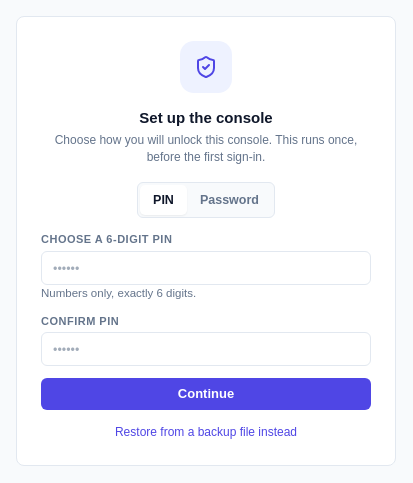
Test: Setup — the full first-run flow › submits a validated password credential
This screenshot has width=413, height=483.
Click the radio button labelled "Password" at (229, 200), box x1=200 y1=193 x2=259 y2=207
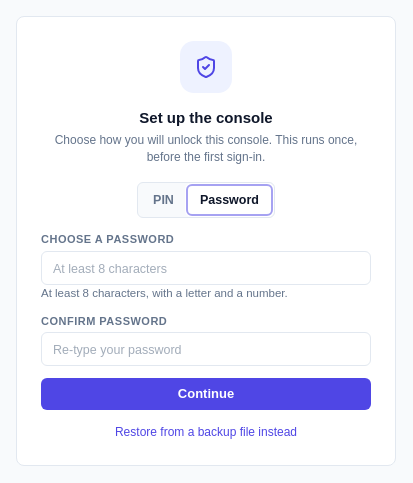
Type "correct-horse-1" into the password field labelled "Choose a password" at (206, 268), box x1=41 y1=251 x2=371 y2=285
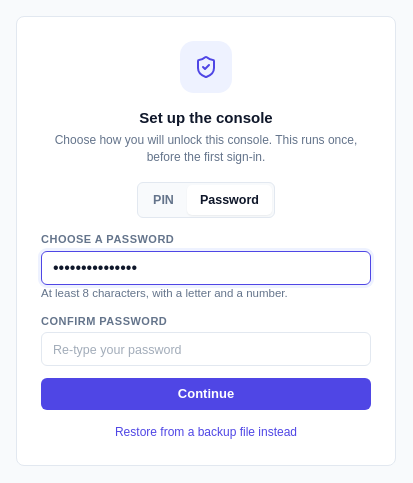
Type "correct-horse-1" into the password field labelled "Confirm password" at (206, 349), box x1=41 y1=332 x2=371 y2=366
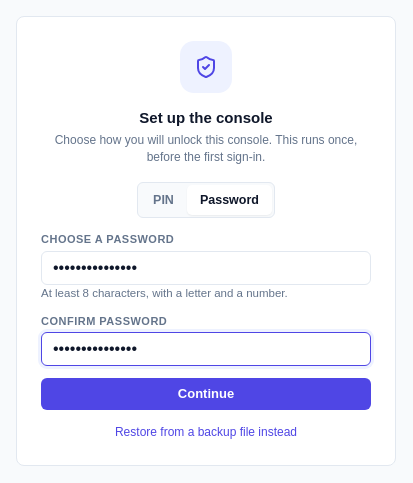
Click the button "Continue" at (206, 394), box x1=41 y1=378 x2=371 y2=410
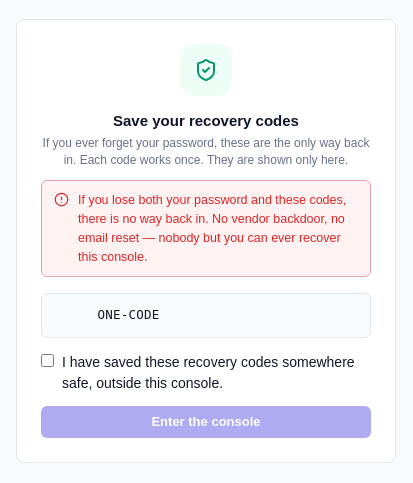
Expected: the text "ONE-CODE" is shown, x1=97 y1=307 x2=160 y2=322
